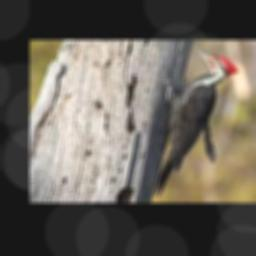Woodpecker: (152, 46, 238, 196)
